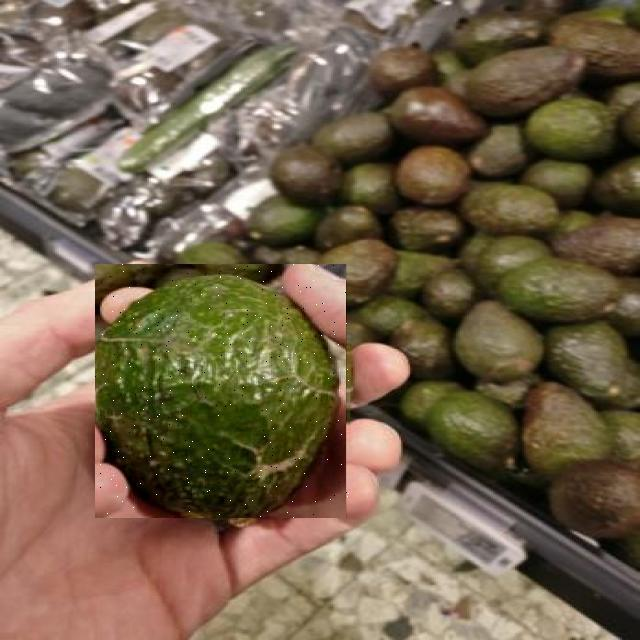Avocado: (96, 265, 350, 519)
